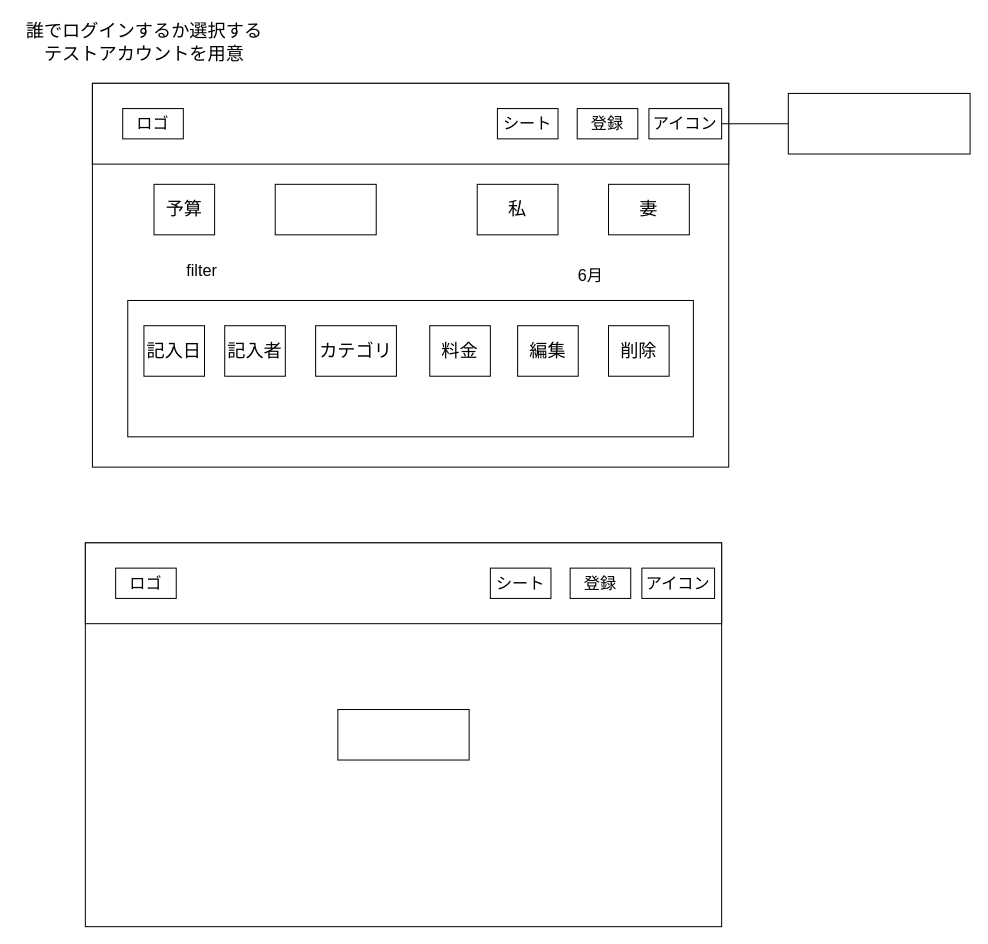
This 988x944 diagram has some shape labels left out. The shapes that lost their labels are listed below. From the top down, each one's centre as x and y in pixels, then its label:
point (878, 123): だれでログインしているか
point (325, 209): カテゴリ別
point (403, 734): 予算ごと分析
